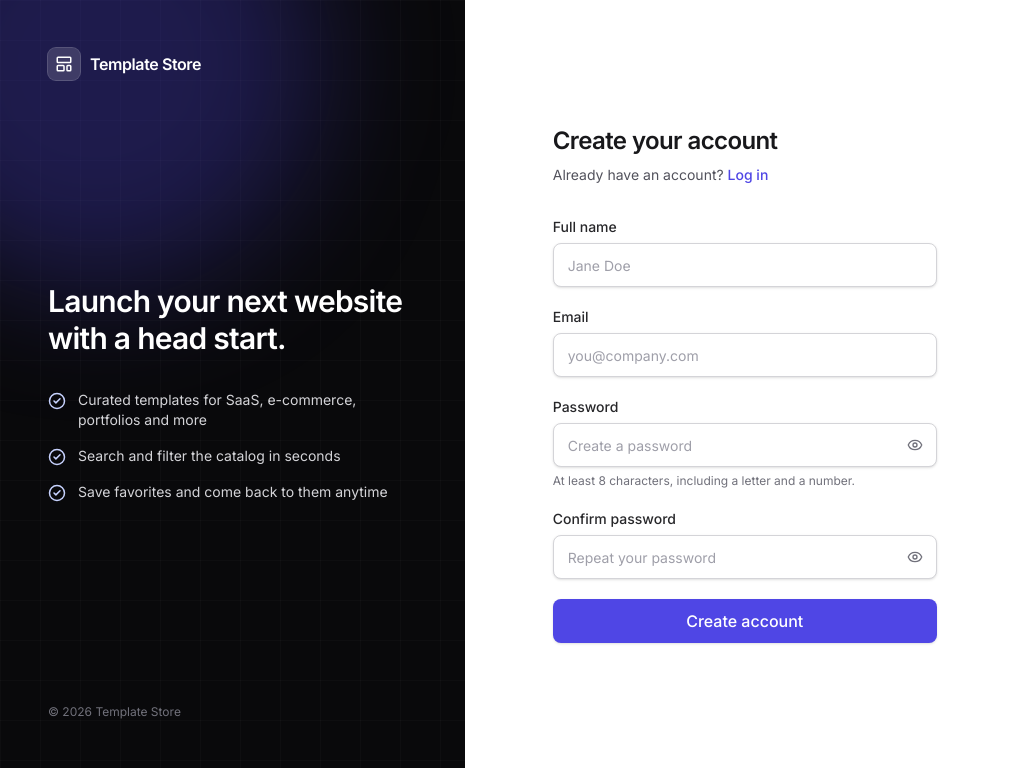
it: Register page › shows a duplicate-email error on the email field
Type "Ada Lovelace" into the field labelled "Full name" at point(745, 265), box x1=553 y1=243 x2=937 y2=287
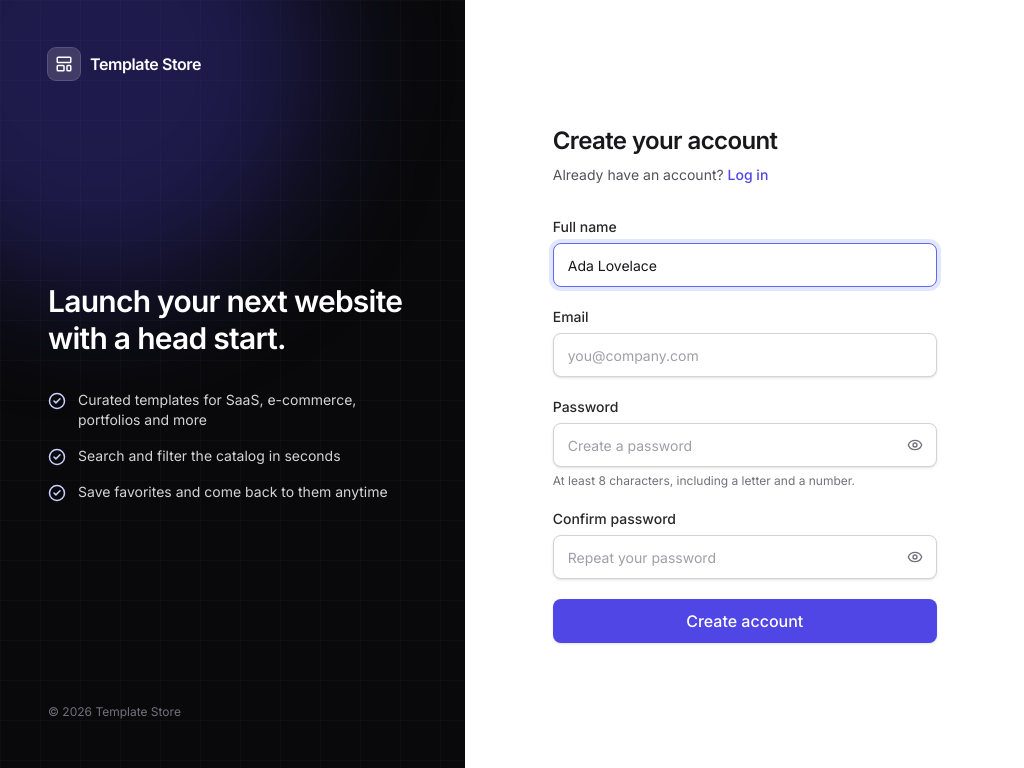
Type "ada@example.com" into the field labelled "Email" at point(745, 355), box x1=553 y1=333 x2=937 y2=377
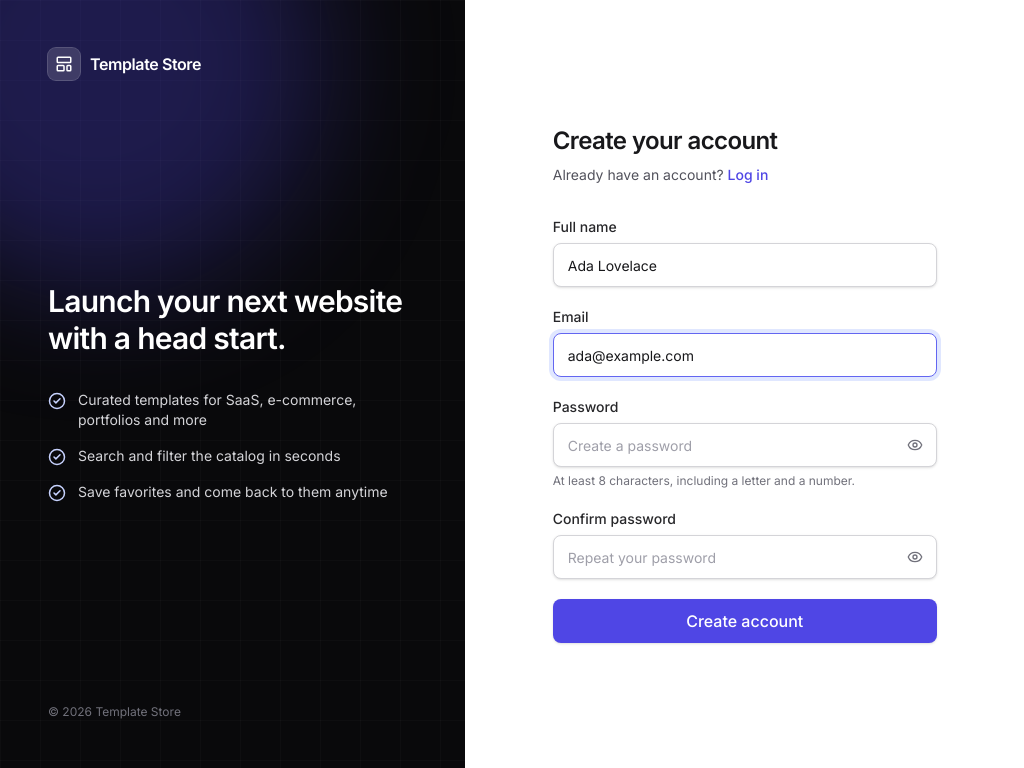
Type "Password1" into the password field labelled "Password" at point(745, 445), box x1=553 y1=423 x2=937 y2=467
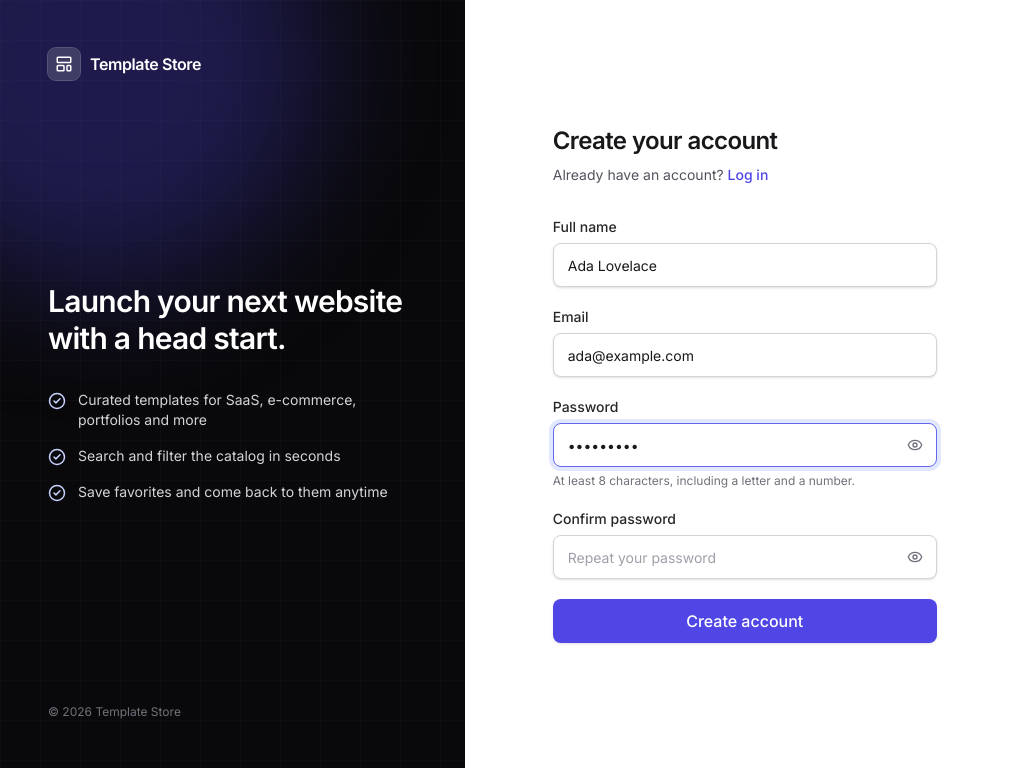
Type "Password1" into the password field labelled "Confirm password" at point(745, 557), box x1=553 y1=535 x2=937 y2=579
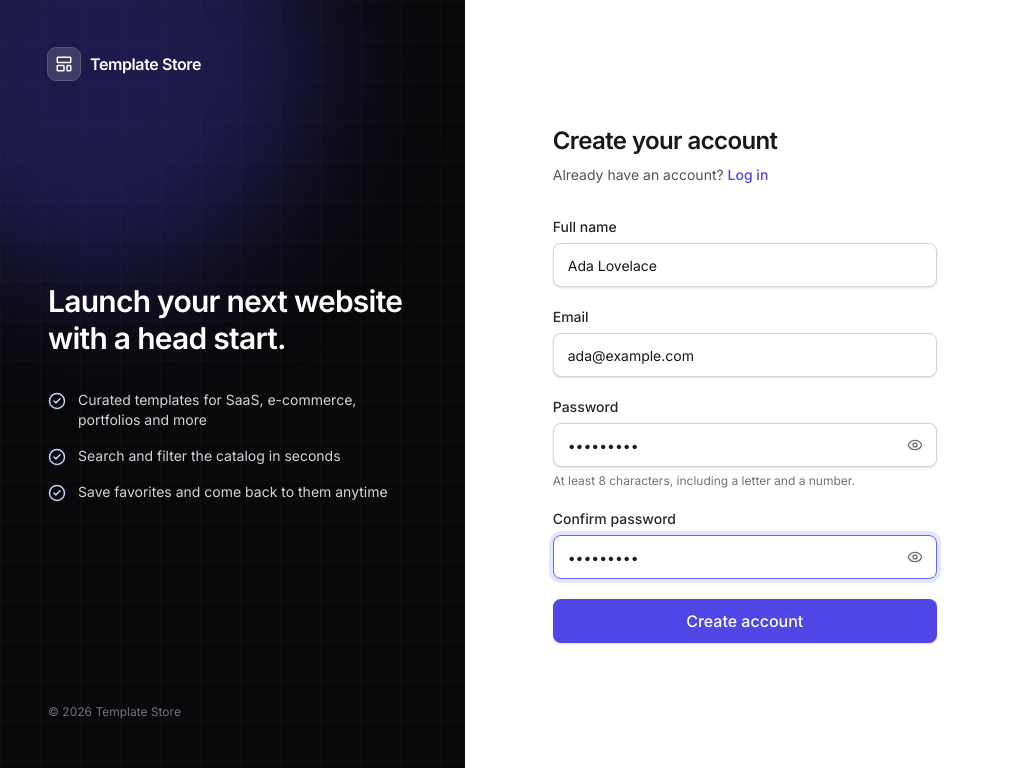
Click the button "Create account" at point(745, 621), box x1=553 y1=599 x2=937 y2=643
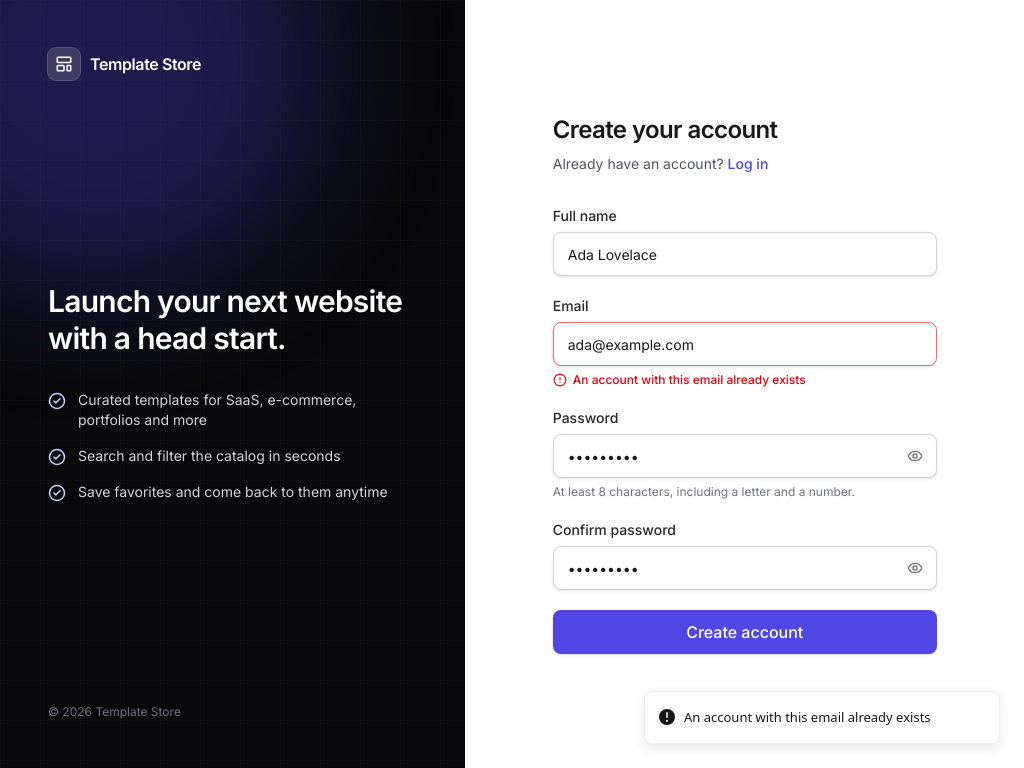
Now the text "An account with this email already exists" below "Full name" is shown, box x1=573 y1=372 x2=806 y2=387
